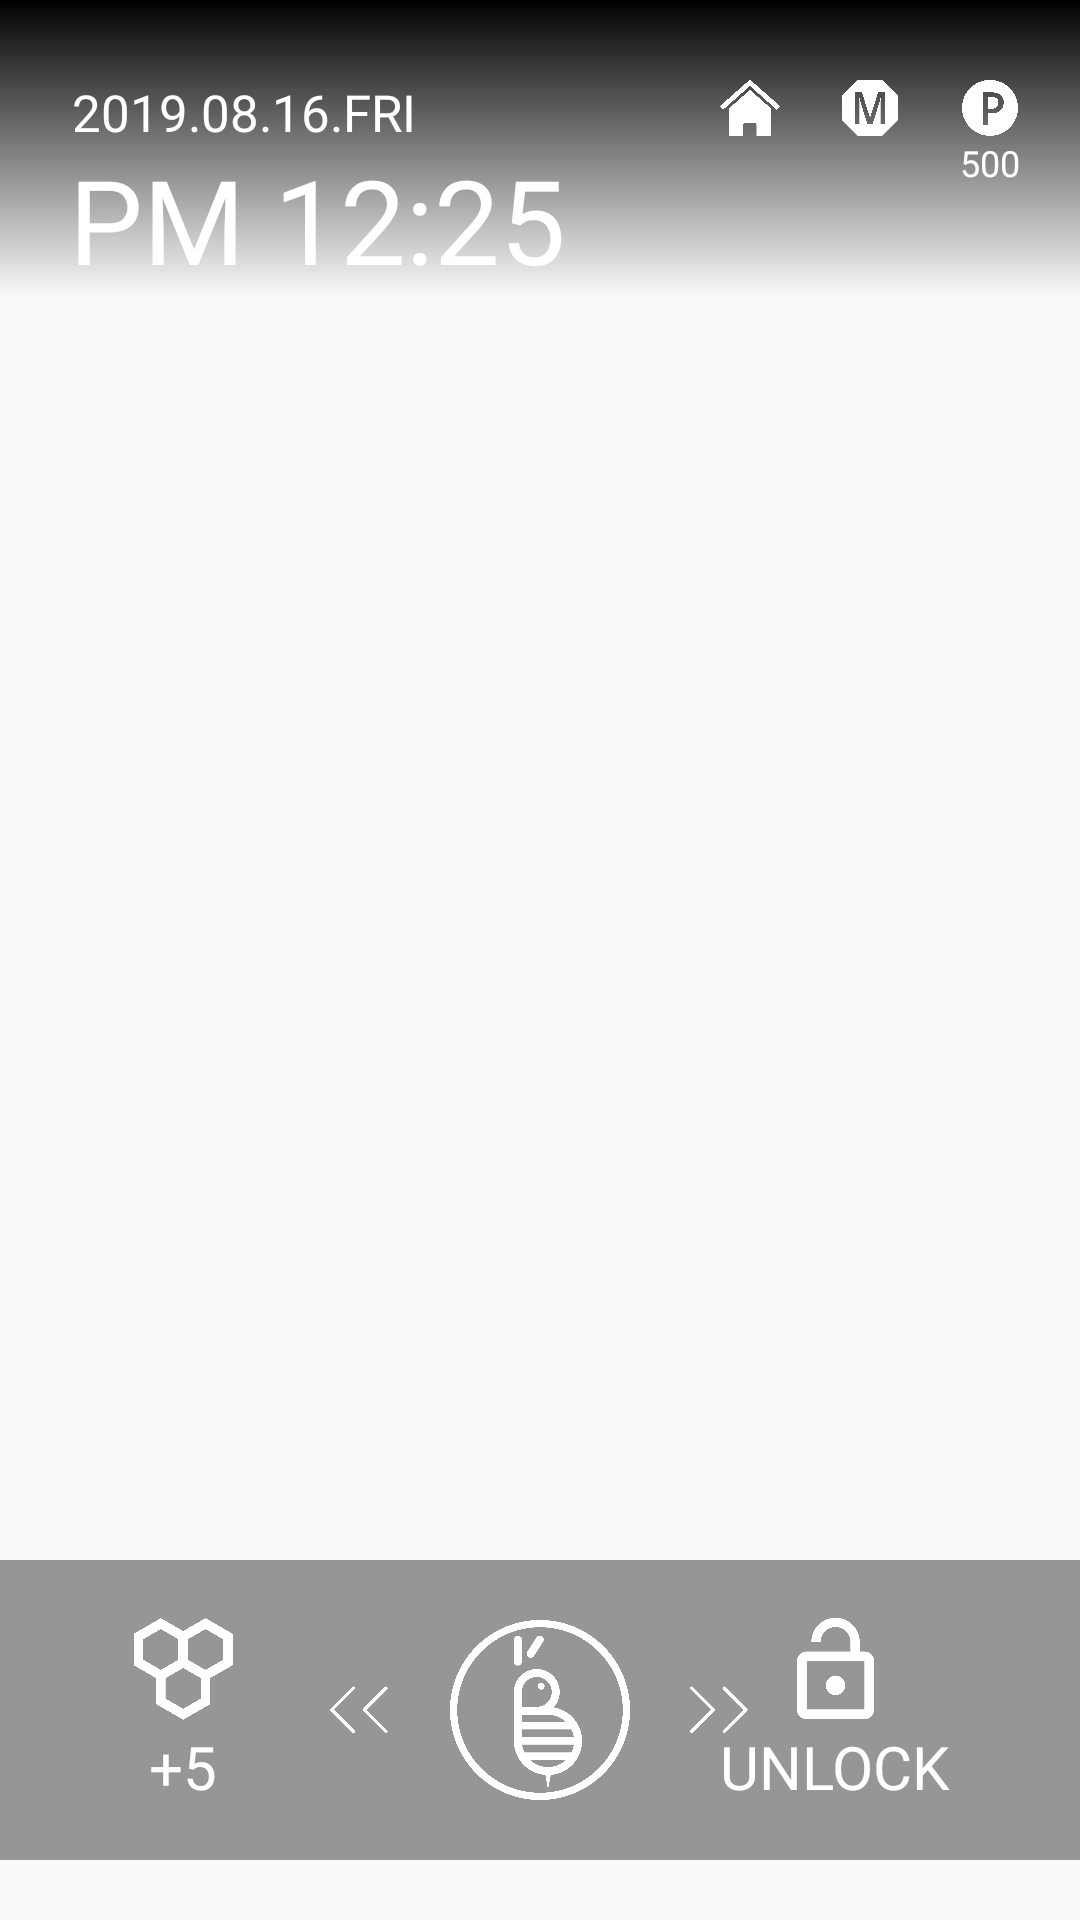

Point at icon controls on the screen. Image size 1080w x 1920h, points as (x,y).
home: (750,108)
left arrow: (359,1709)
mission: (870,108)
point: (990,108)
right arrow: (719,1709)
